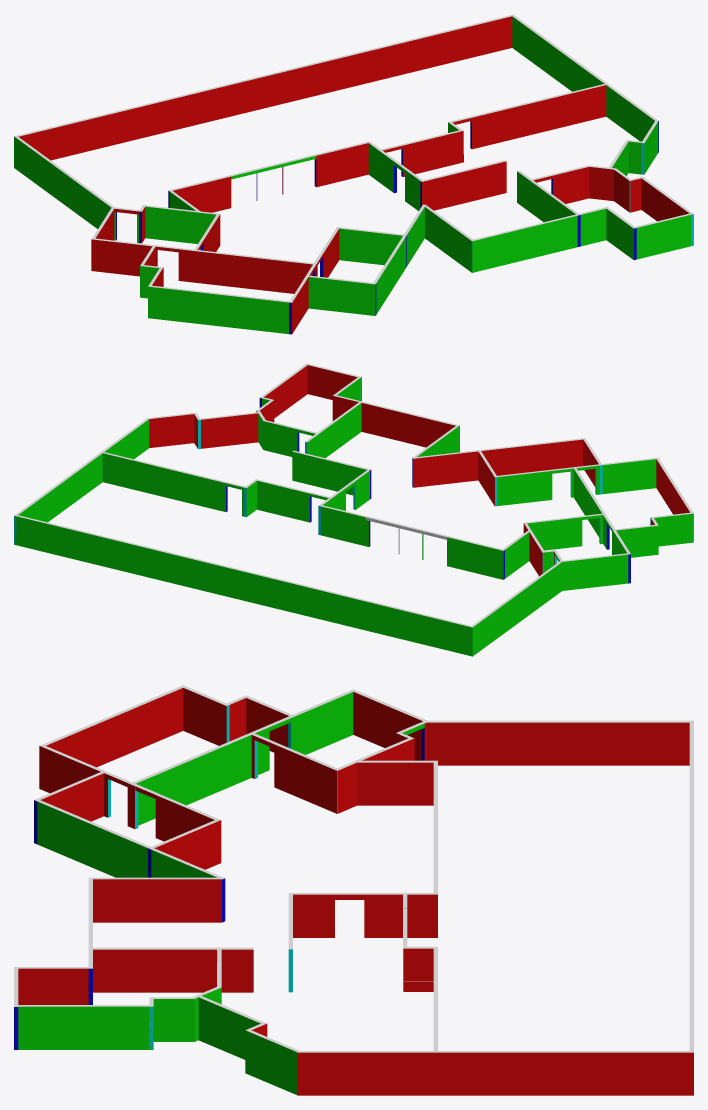
The model's file is NewWallsNEW.fbx.
3 renders of one model, top to bottom at view 1: azimuth 30°, elevation 25°; view 2: azimuth 150°, elevation 25°; view 3: azimuth 270°, elevation 25°, orthographic. The views are drawn at different scales.
Parts seen in each view (by area): view 1: NewWall6Planes106_polySurface254, NewWall6Planes100_polySurface254, NewWall6Planes83_polySurface254, NewWall6Planes96_polySurface254, NewWall6Planes86_polySurface254, NewWall6Planes70_polySurface254, NewWall6Planes105_polySurface254, NewWall6Planes79_polySurface254, NewWall6Planes99_polySurface254, NewWall6Planes72_polySurface254, NewWall6Planes80_polySurface254, NewWall6Planes94_polySurface254 (+17 smaller); view 2: NewWall6Planes106_polySurface254, NewWall6Planes98_polySurface254, NewWall6Planes83_polySurface254, NewWall6Planes86_polySurface254, NewWall6Planes96_polySurface254, NewWall6Planes105_polySurface254, NewWall6Planes104_polySurface254, NewWall6Planes79_polySurface254, NewWall6Planes109_polySurface254, NewWall6Planes89_polySurface254, NewWall6Planes81_polySurface254, NewWall6Planes84_polySurface254 (+17 smaller); view 3: NewWall6Planes86_polySurface254, NewWall6Planes105_polySurface254, NewWall6Planes78_polySurface254, NewWall6Planes98_polySurface254, NewWall6Planes93_polySurface254, NewWall6Planes97_polySurface254, NewWall6Planes100_polySurface254, NewWall6Planes70_polySurface254, NewWall6Planes74_polySurface254, NewWall6Planes76_polySurface254, NewWall6Planes71_polySurface254, NewWall6Planes107_polySurface254 (+17 smaller).
Boxes of the visible parts, box(x1,y1,x2,y2) form: NewWall6Planes106_polySurface254: box(15, 14, 513, 160); NewWall6Planes100_polySurface254: box(148, 285, 289, 333); NewWall6Planes83_polySurface254: box(470, 83, 607, 149); NewWall6Planes96_polySurface254: box(472, 206, 608, 272); NewWall6Planes86_polySurface254: box(512, 14, 658, 152); NewWall6Planes70_polySurface254: box(178, 248, 313, 293); NewWall6Planes105_polySurface254: box(14, 136, 114, 228); NewWall6Planes79_polySurface254: box(420, 160, 506, 210); NewWall6Planes99_polySurface254: box(308, 275, 376, 315); NewWall6Planes72_polySurface254: box(143, 205, 216, 243); NewWall6Planes80_polySurface254: box(401, 129, 463, 176); NewWall6Planes94_polySurface254: box(633, 213, 693, 259); NewWall6Planes106_polySurface254: box(14, 515, 473, 656); NewWall6Planes98_polySurface254: box(412, 438, 583, 487); NewWall6Planes83_polySurface254: box(102, 452, 227, 511); NewWall6Planes86_polySurface254: box(14, 418, 149, 544); NewWall6Planes96_polySurface254: box(332, 394, 459, 447); NewWall6Planes105_polySurface254: box(470, 561, 562, 656); NewWall6Planes104_polySurface254: box(561, 553, 628, 590); NewWall6Planes79_polySurface254: box(292, 450, 371, 499); NewWall6Planes109_polySurface254: box(595, 457, 658, 494); NewWall6Planes89_polySurface254: box(198, 412, 258, 448); NewWall6Planes81_polySurface254: box(447, 537, 504, 579); NewWall6Planes84_polySurface254: box(495, 470, 552, 505); NewWall6Planes86_polySurface254: box(297, 1051, 693, 1095); NewWall6Planes105_polySurface254: box(427, 720, 693, 765); NewWall6Planes78_polySurface254: box(88, 947, 253, 992); NewWall6Planes98_polySurface254: box(34, 799, 225, 922); NewWall6Planes93_polySurface254: box(14, 1005, 153, 1049); NewWall6Planes97_polySurface254: box(93, 877, 221, 922); NewWall6Planes100_polySurface254: box(43, 685, 183, 767); NewWall6Planes70_polySurface254: box(133, 726, 269, 825); NewWall6Planes74_polySurface254: box(356, 760, 437, 805); NewWall6Planes76_polySurface254: box(364, 893, 437, 937); NewWall6Planes71_polySurface254: box(274, 743, 339, 813); NewWall6Planes107_polySurface254: box(288, 689, 356, 754).
Bounding box in the file's own units: 6069 × 332 × 4745.
